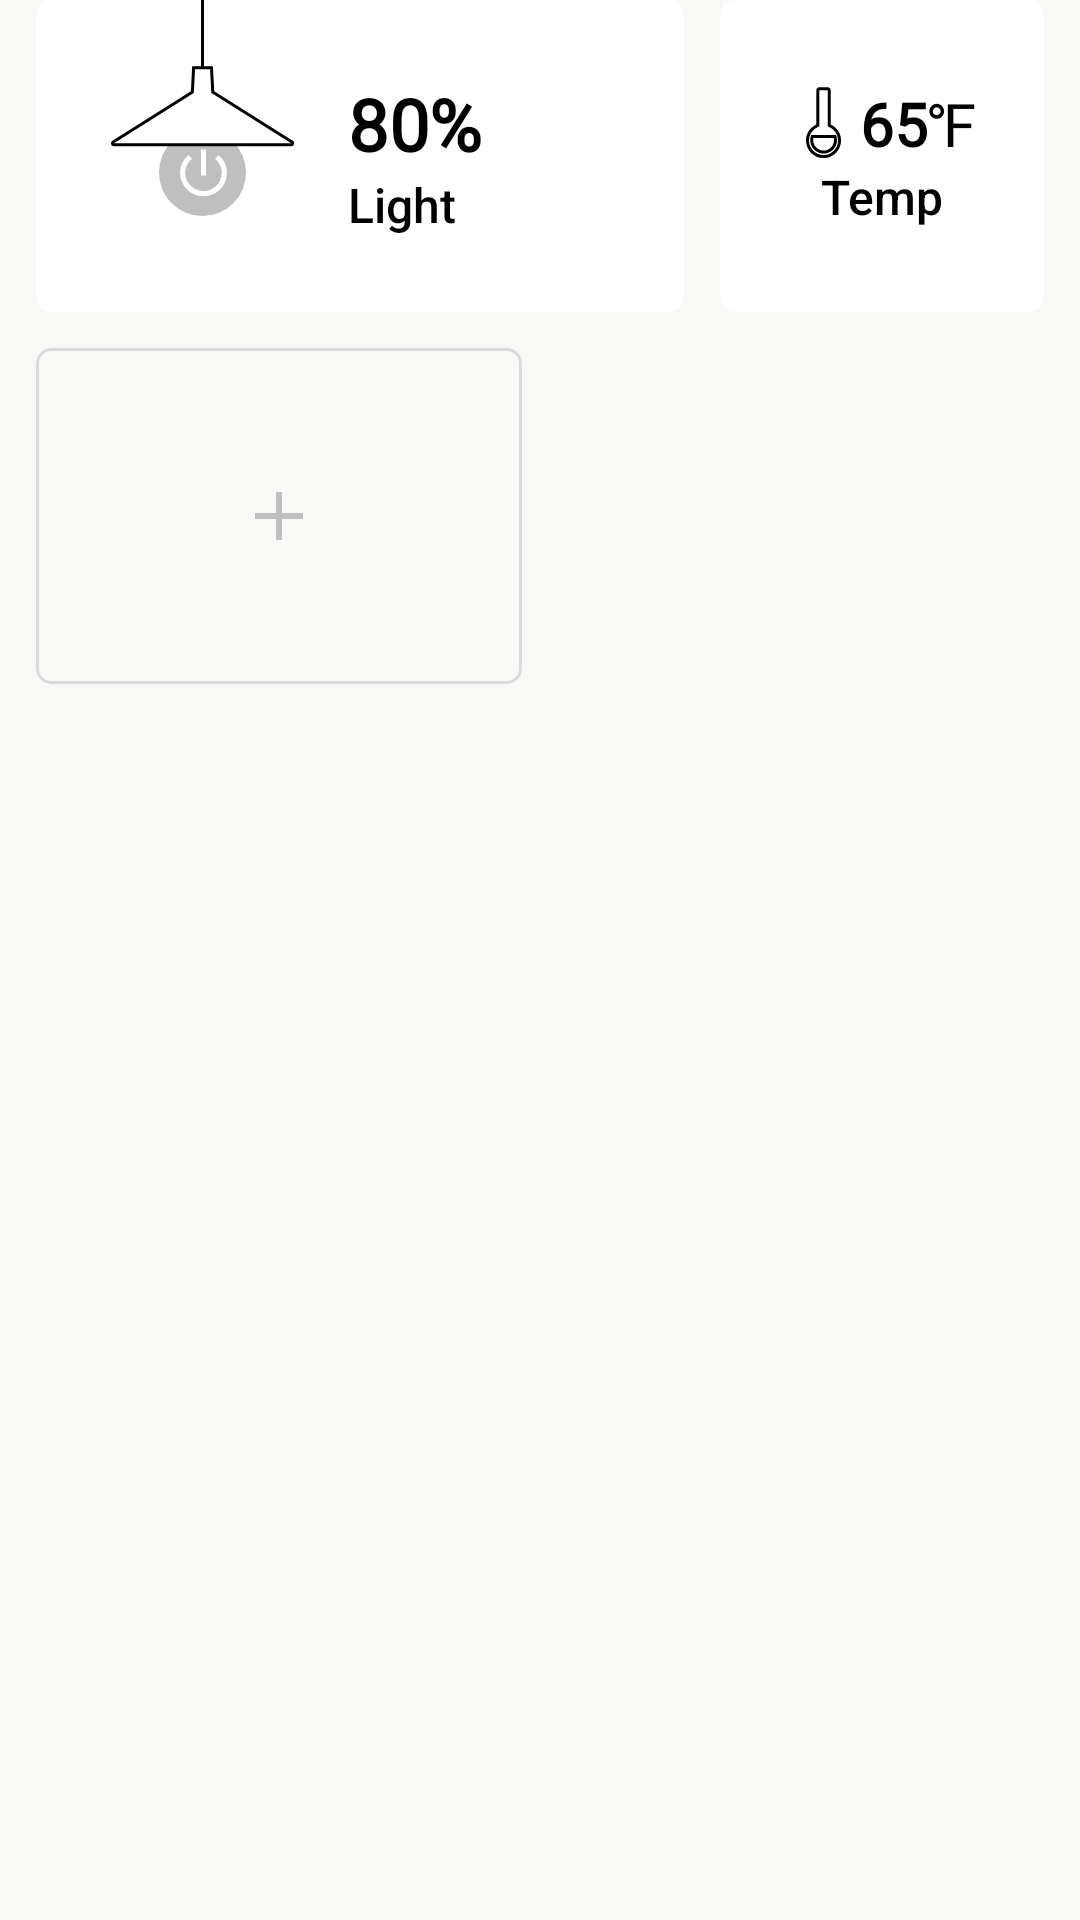

Icon click points for this 1080px×1920px phone screenshot, format (x=x, y=y):
off: (x=203, y=108)
plus: (x=279, y=516)
